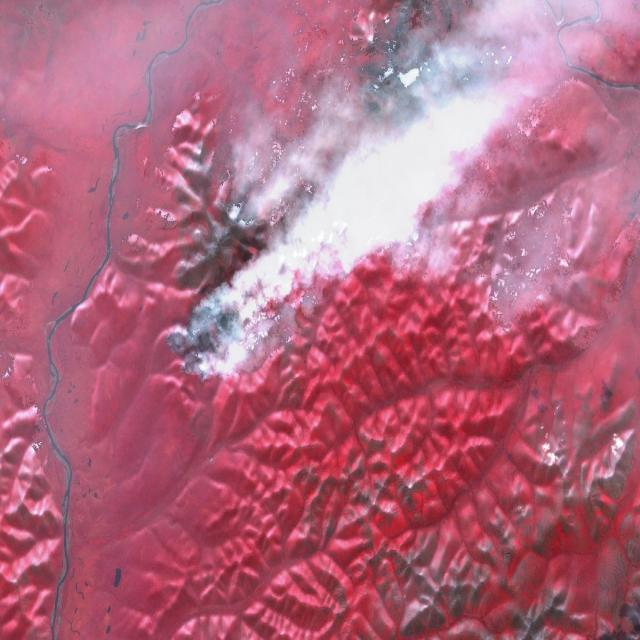fire: (155, 280, 259, 394)
